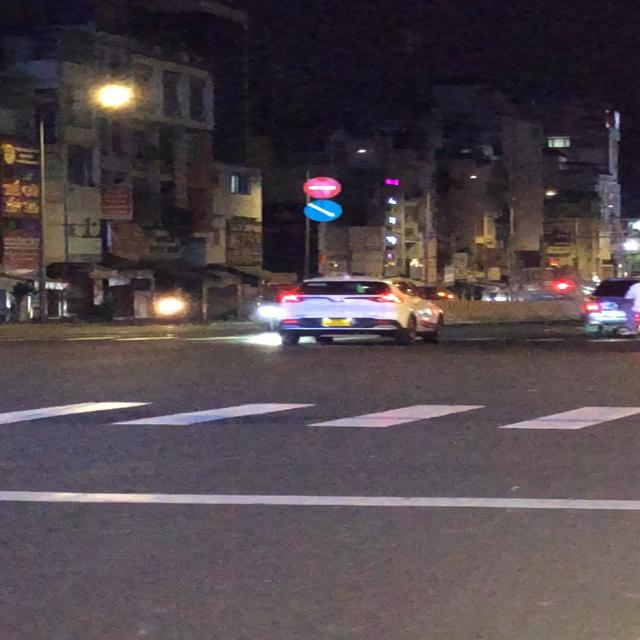Bien bao cam di nguoc chieu: (301, 175, 343, 199)
Bien bao huong phai di vong chuong ngai vat: (303, 200, 345, 223)
